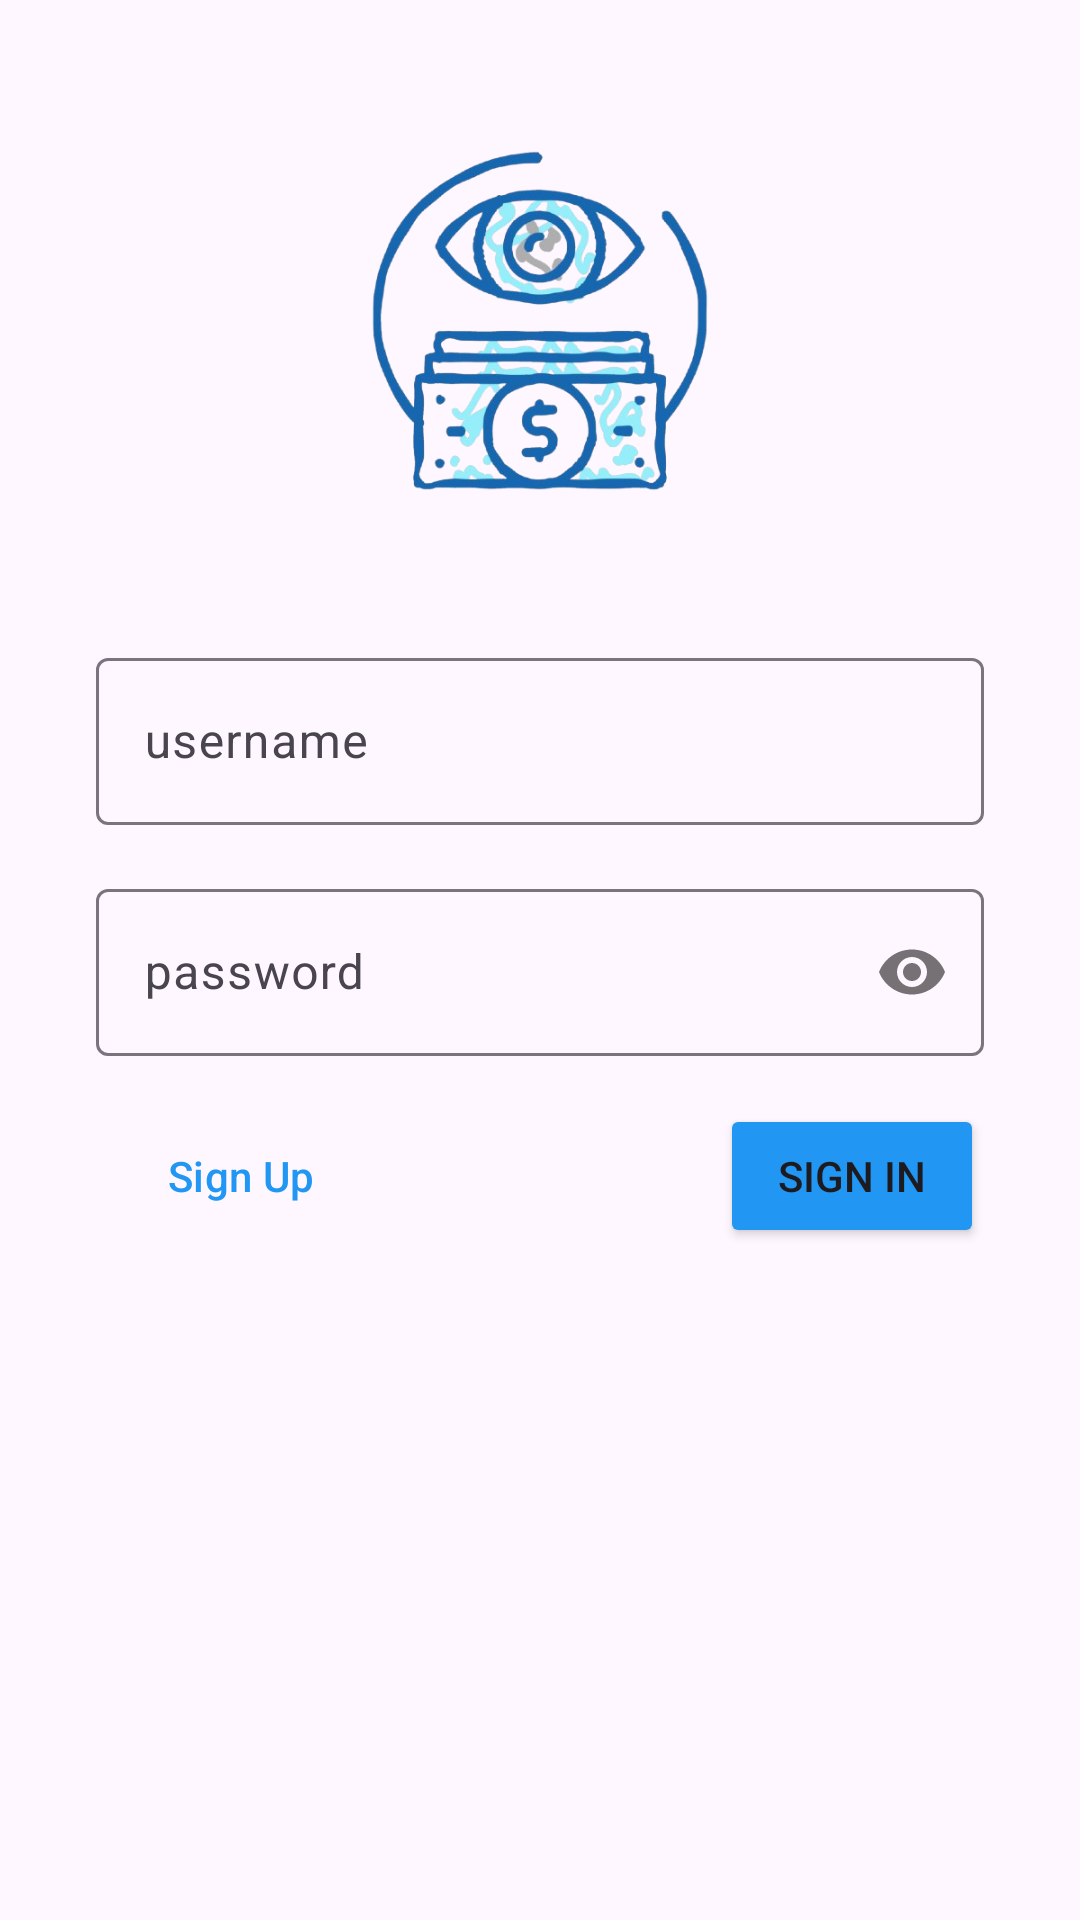

Screen size 1080 x 1920. Icon name, then its box in pixels as (x1, y1, x2, y2):
moneytracker: (372, 152, 707, 490)
